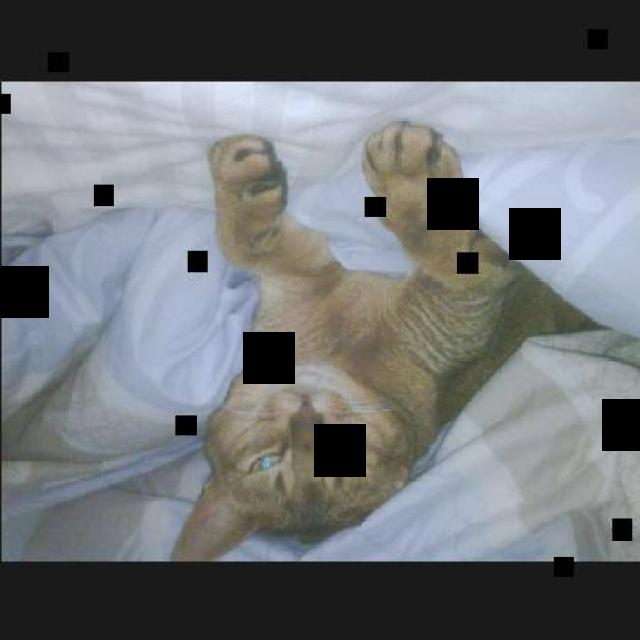unauthorized: (169, 117, 611, 560)
